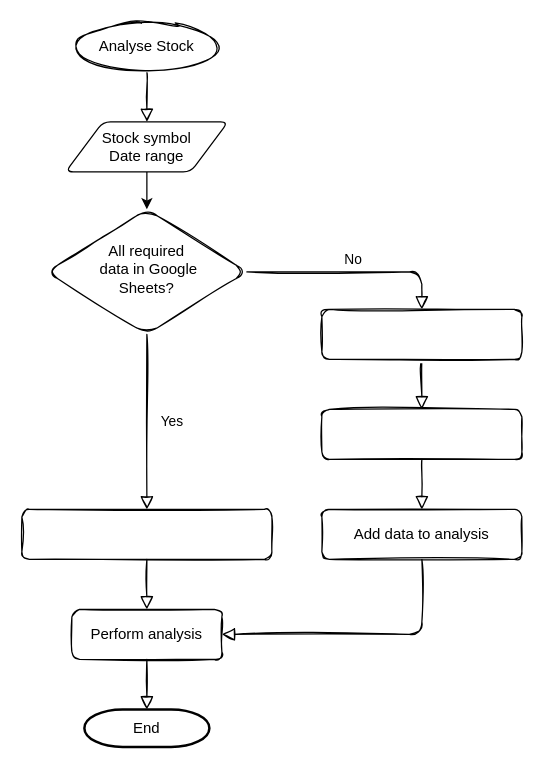
This 544x770 diagram has some shape labels left out. Here are the shapes that lost their labels. From the top down, the box of each, then its label:
(321, 308, 522, 359): Request missing data
(321, 408, 522, 459): Add data to Google Sheets
(21, 508, 272, 559): Extract data from Google Sheets
